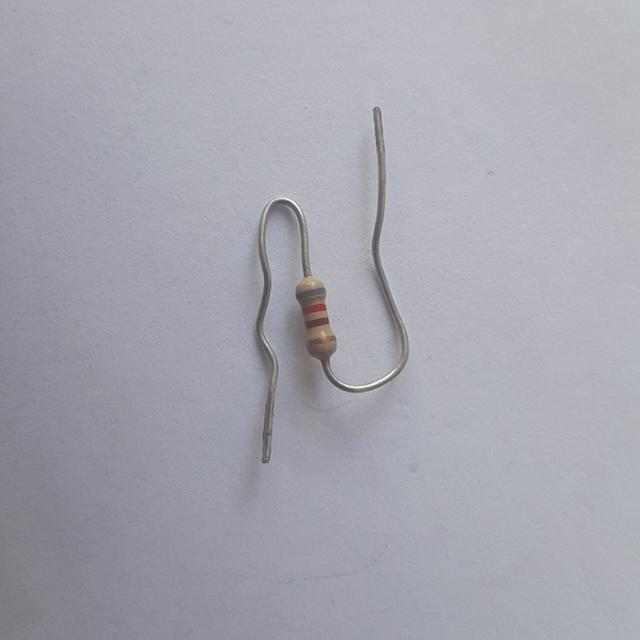brown: (306, 317, 328, 326)
gold: (307, 335, 334, 343)
grey: (297, 289, 324, 298)
red: (304, 302, 326, 312)
resistor: (289, 271, 343, 364)
